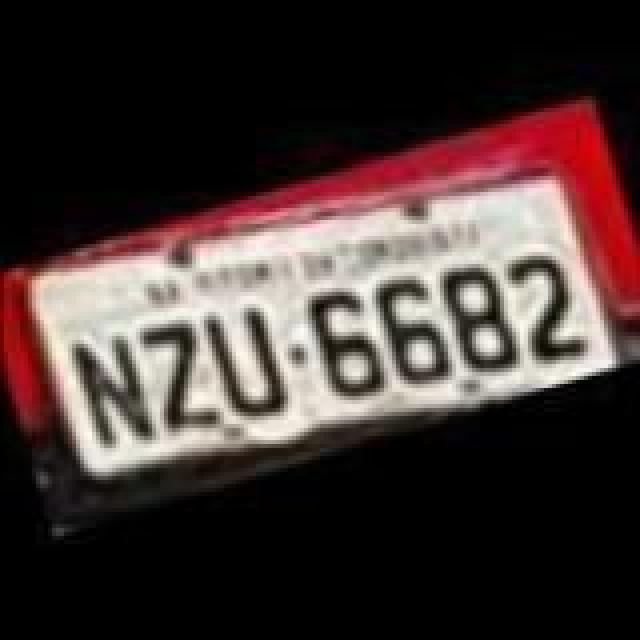2: (498, 242, 594, 370)
6: (296, 278, 396, 410), (360, 264, 460, 396)
8: (426, 256, 522, 384)
N: (60, 326, 156, 454)
U: (190, 294, 294, 426)
Z: (126, 306, 222, 438)
